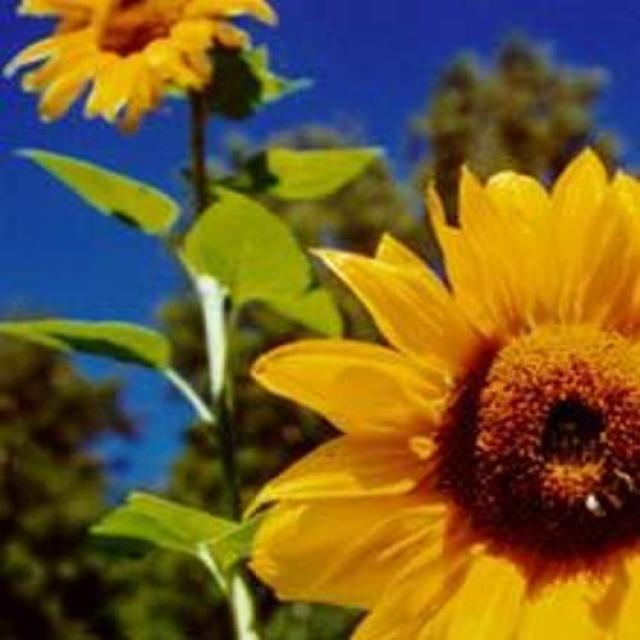sunflower: (245, 141, 640, 640), (4, 0, 287, 129)
